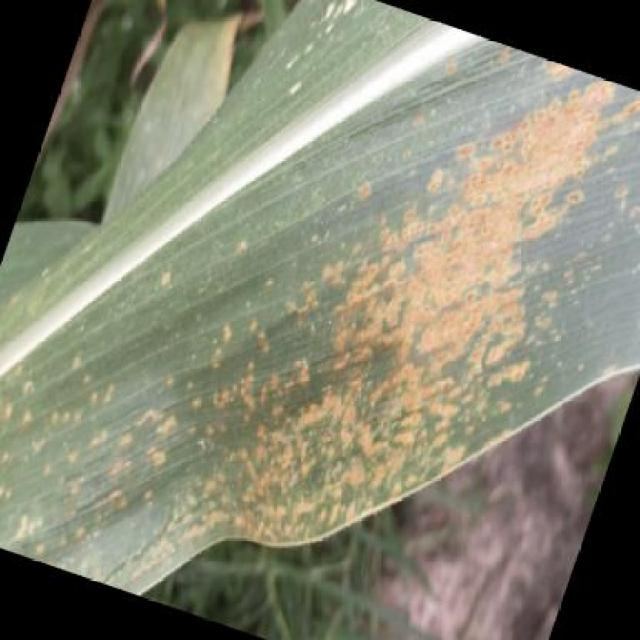Corn_Rust: (89, 70, 571, 578)
